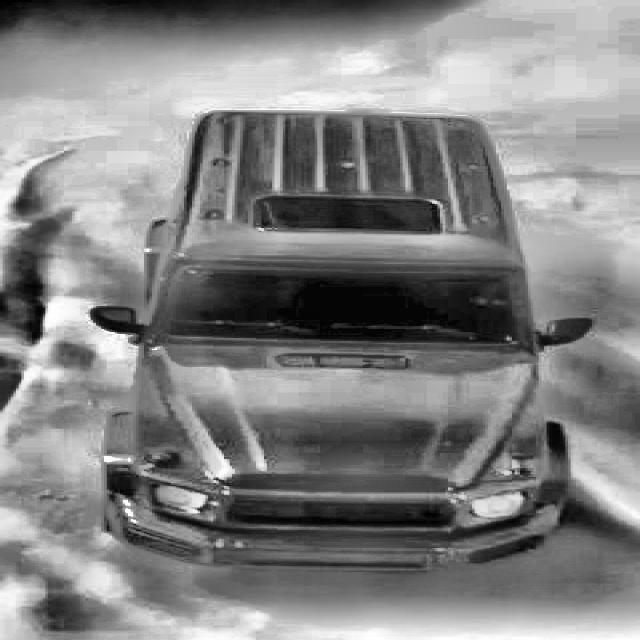light_vehicle: (108, 100, 599, 577)
